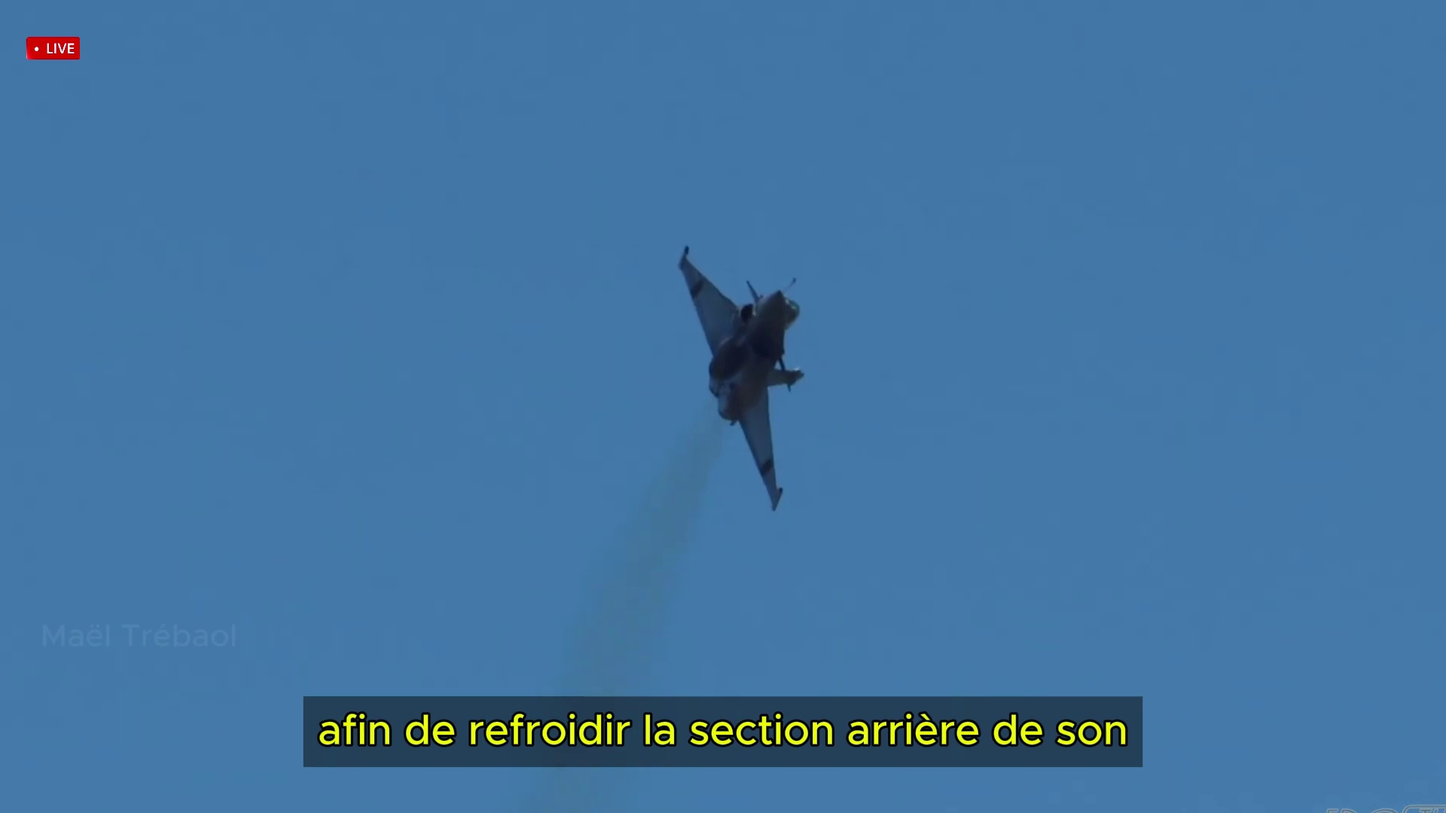Rafale: (670, 239, 808, 516)
